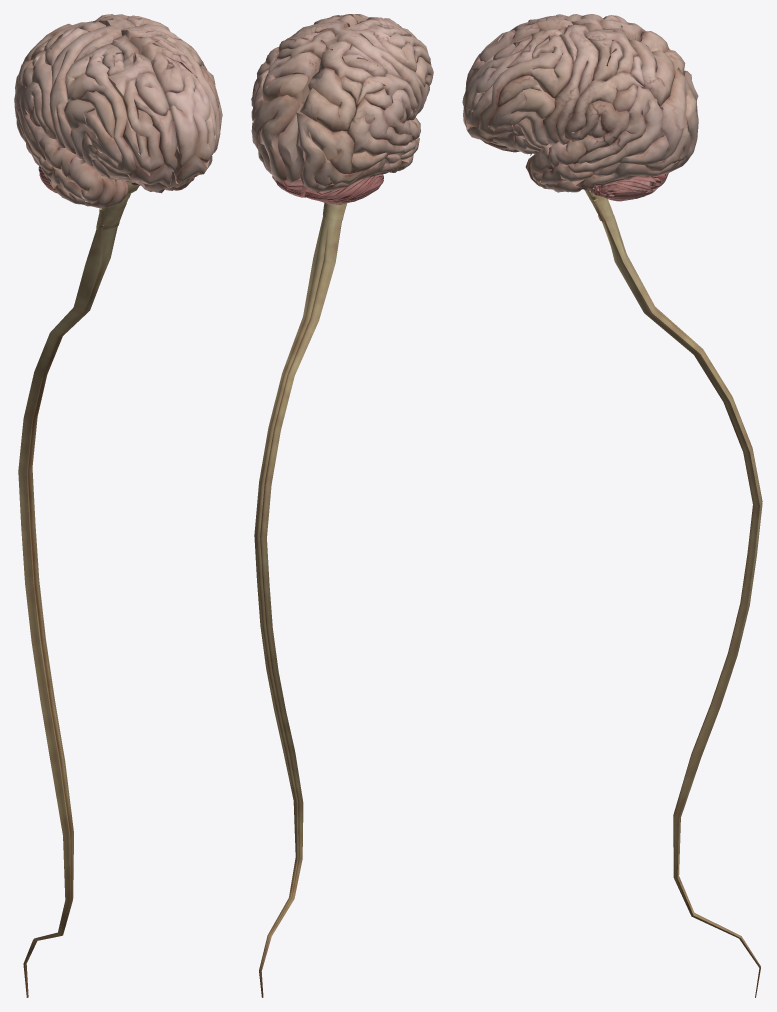
The model's file is brain.fbx.
3 views of the same model, side by side, from view 1: azimuth 30°, elevation 25°; view 2: azimuth 150°, elevation 25°; view 3: azimuth 270°, elevation 25° (orthographic). The views are drawn at different scales.
Visible parts, largest first — view 1: Nervous_Brain_Geo, Nervous_Brain_Stem_Geo; view 2: Nervous_Brain_Geo, Nervous_Brain_Stem_Geo, Nervous_Cerebellum_Geo; view 3: Nervous_Brain_Geo, Nervous_Brain_Stem_Geo, Nervous_Cerebellum_Geo.
Boxes of the visible parts, x1,y1,x2,y2 form: Nervous_Brain_Geo: (14,14,222,208); Nervous_Brain_Stem_Geo: (18,182,139,997); Nervous_Brain_Geo: (251,14,433,192); Nervous_Brain_Stem_Geo: (254,203,346,997); Nervous_Cerebellum_Geo: (272,174,383,204); Nervous_Brain_Geo: (462,14,698,192); Nervous_Brain_Stem_Geo: (584,189,762,997); Nervous_Cerebellum_Geo: (589,173,668,201).
Bounding box in the file's own units: 12.71 × 77.92 × 21.75.
Materials: 1 (1 with a texture image).
